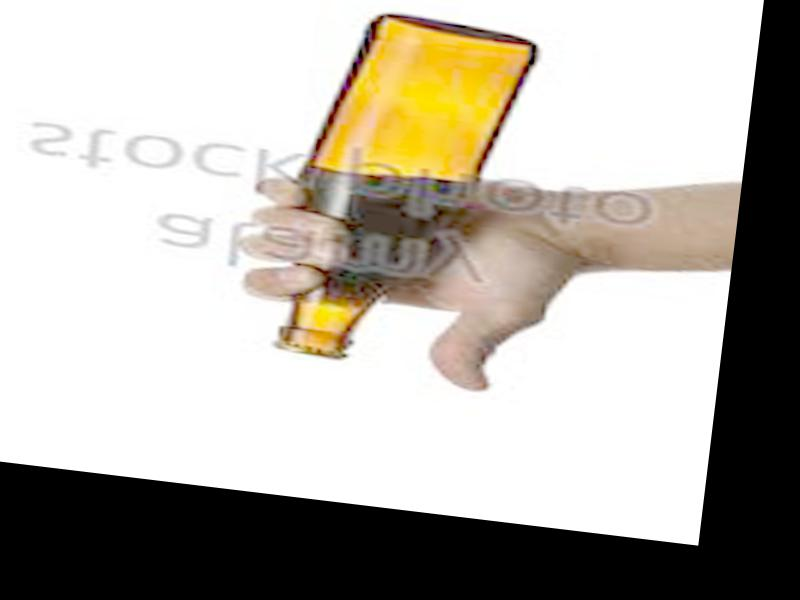Beer: (268, 5, 544, 375)
